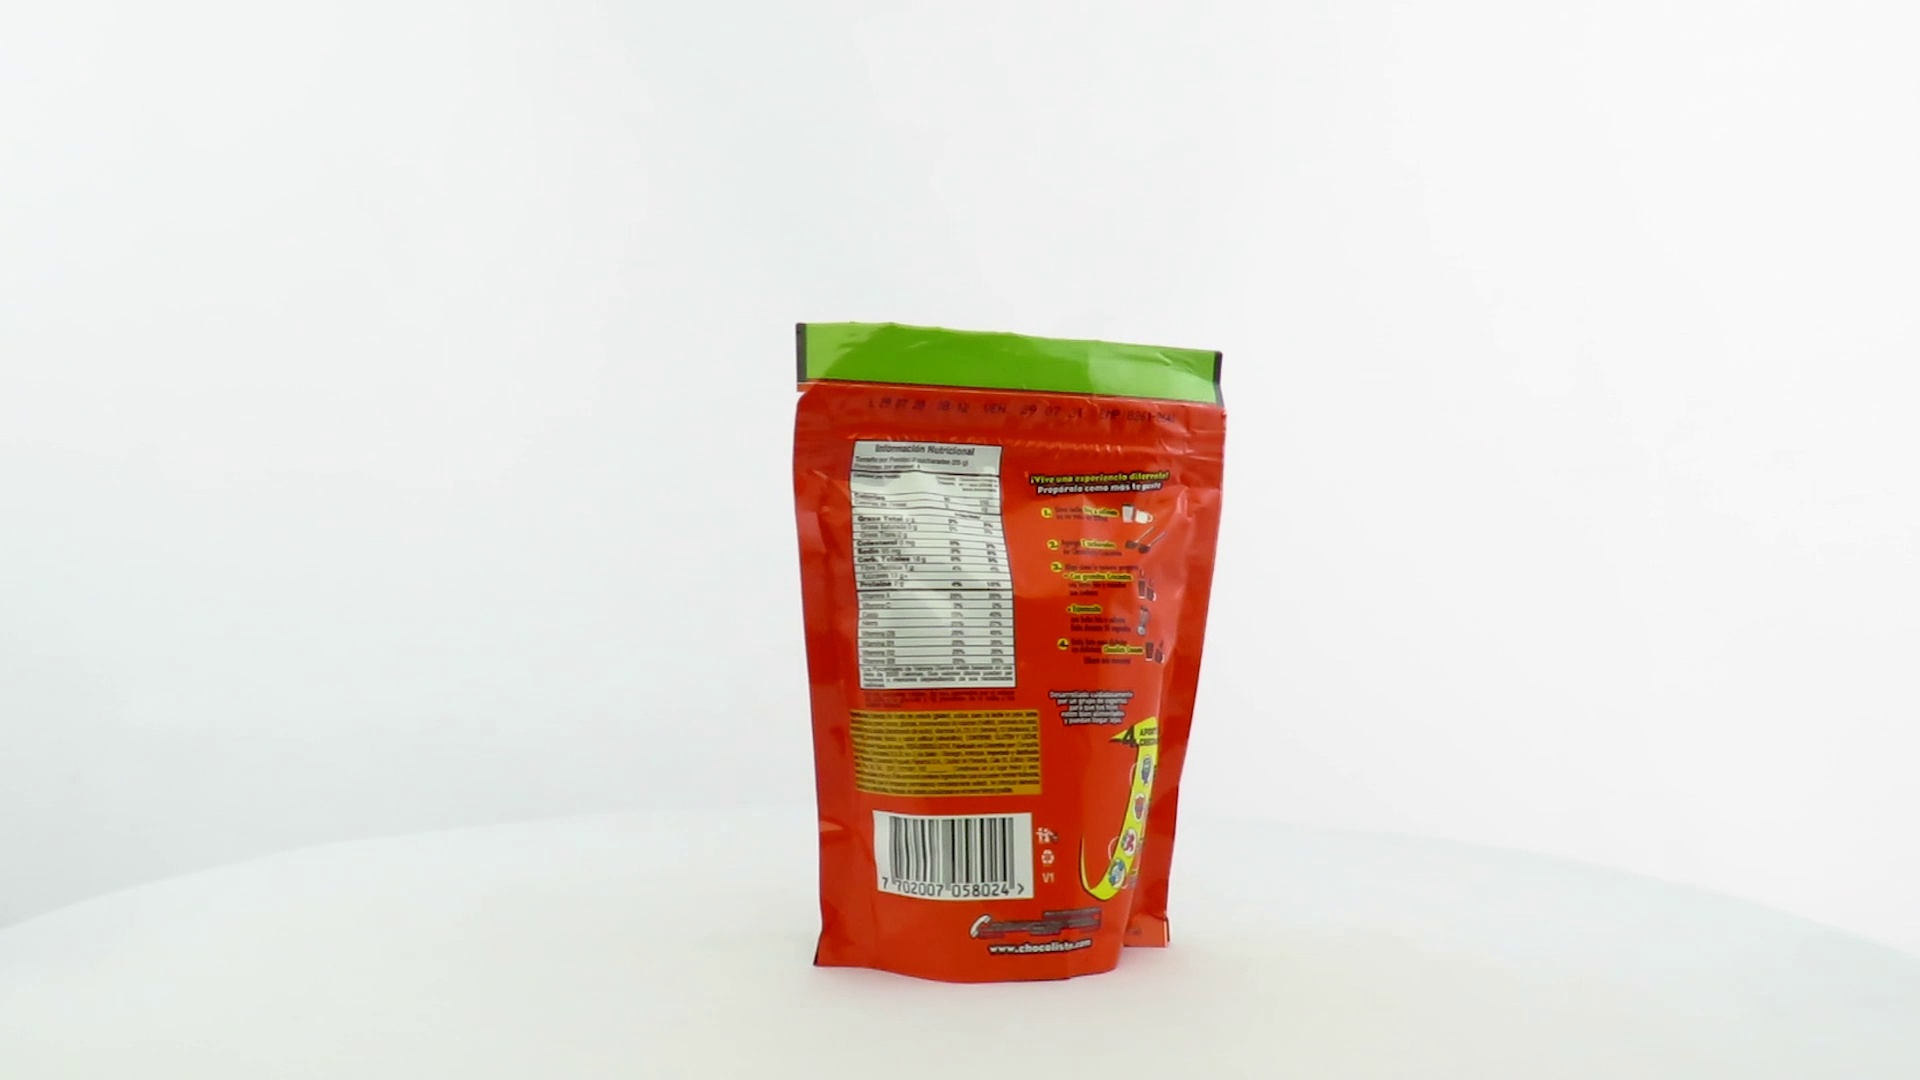COL0170102DYP10000: (787, 316, 1233, 990)
